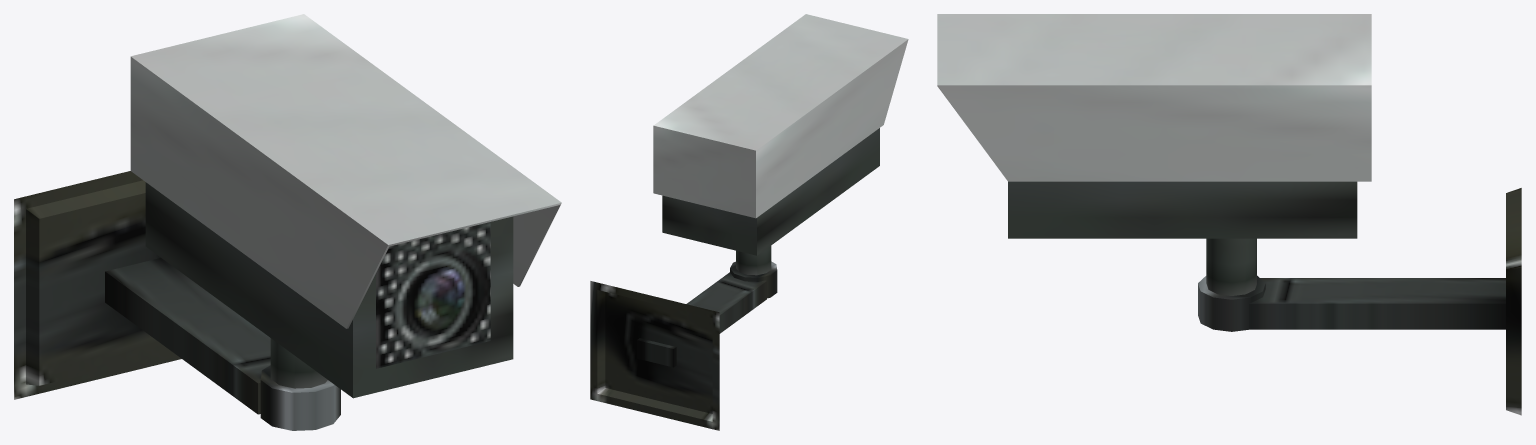
The model's file is Securitycam2.FBX.
3 renders of one model, left to right at view 1: azimuth 30°, elevation 25°; view 2: azimuth 150°, elevation 25°; view 3: azimuth 270°, elevation 25°, orthographic. The views are drawn at different scales.
Visible parts, largest first — view 1: cam, SecurityCam2; view 2: cam, SecurityCam2; view 3: cam, SecurityCam2.
Boxes of the visible parts, x1,y1,x2,y2 form: cam: [130, 14, 561, 398]; SecurityCam2: [14, 171, 340, 430]; cam: [653, 14, 908, 275]; SecurityCam2: [590, 261, 777, 430]; cam: [937, 14, 1371, 295]; SecurityCam2: [1198, 188, 1521, 415].
Bounding box in the file's own units: 14.8 × 26.01 × 40.68.
